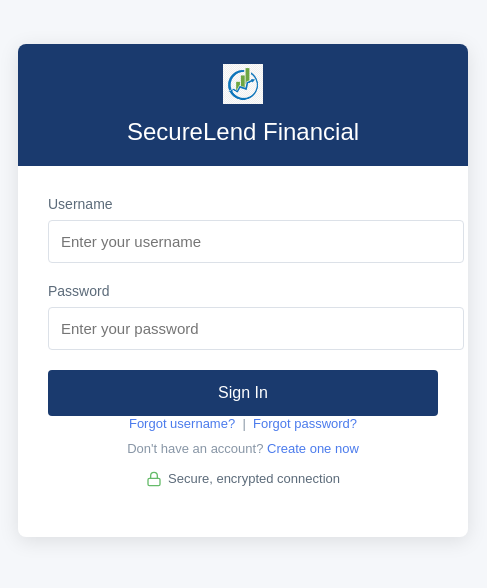
it: LoginPage.vue › shows error message for invalid credentials
Note: Set form values
Type "wronguser" into the field labelled "Username" at (256, 241), box x1=48 y1=220 x2=464 y2=262
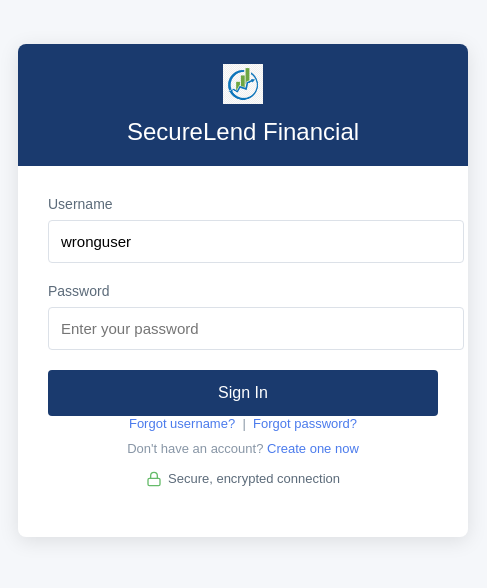
Type "wrongpass" into the password field labelled "Password" at (256, 328), box x1=48 y1=306 x2=464 y2=350
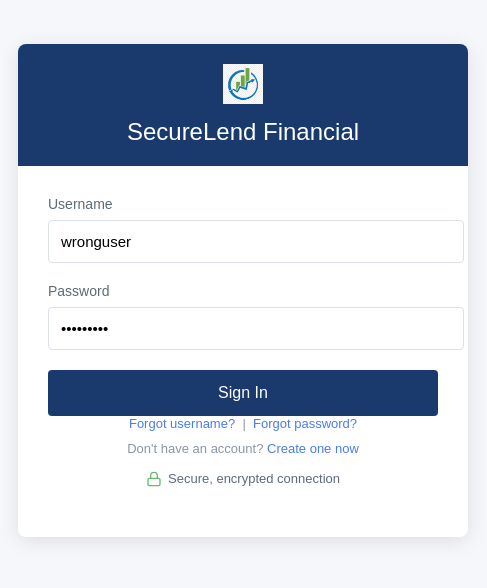
Note: Submit the form
Submit the form, box x1=18 y1=166 x2=468 y2=536
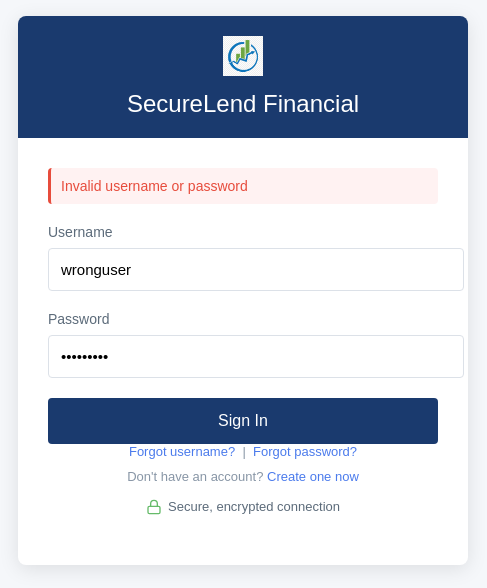
Expected: the text "Invalid username or password" is shown, x1=48 y1=168 x2=438 y2=204
